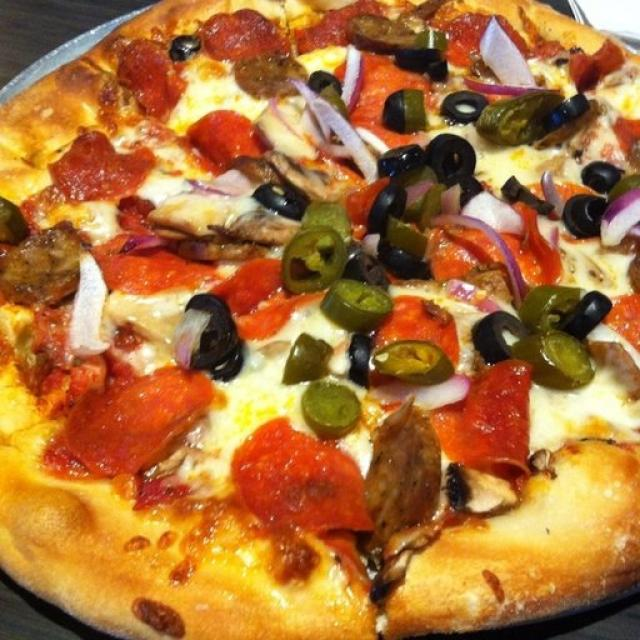Green Pepper: (481, 84, 562, 142), (526, 332, 583, 388), (290, 235, 338, 288), (318, 283, 388, 316), (377, 345, 448, 377), (304, 386, 357, 428), (305, 200, 348, 239), (290, 338, 328, 382), (405, 89, 432, 128), (445, 94, 480, 114), (419, 33, 452, 47)
Olives: (524, 286, 582, 334), (192, 296, 230, 366), (428, 134, 473, 182), (207, 336, 241, 380), (377, 89, 408, 127), (264, 184, 303, 214), (171, 32, 198, 59), (312, 68, 336, 92)
Onions: (307, 100, 377, 182), (64, 249, 109, 358), (479, 24, 540, 92), (600, 193, 640, 249), (168, 310, 209, 364), (334, 41, 364, 108), (613, 175, 640, 204)
Pepperoni: (223, 413, 361, 550), (49, 362, 199, 486), (435, 210, 545, 274), (46, 129, 152, 195), (88, 234, 216, 288), (103, 33, 192, 110), (212, 260, 304, 328), (177, 113, 271, 178), (363, 296, 447, 366), (196, 9, 280, 64), (288, 6, 382, 52), (440, 14, 529, 58), (518, 174, 592, 214), (595, 290, 638, 342)
Pizza: (0, 0, 640, 640)
